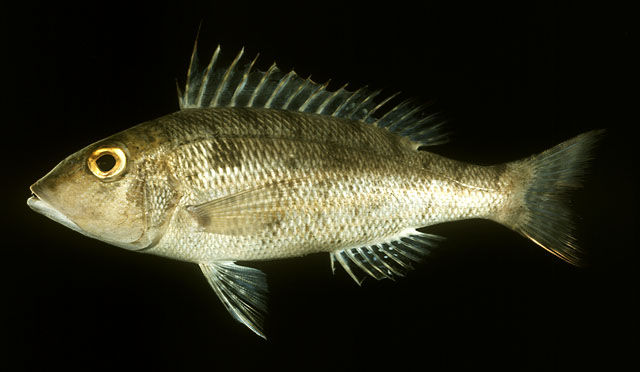fish: (26, 29, 602, 341)
